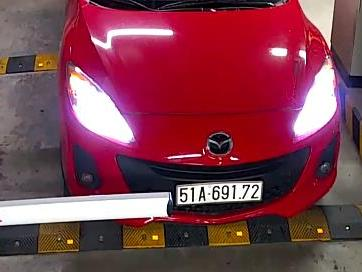number: (175, 183, 262, 205)
